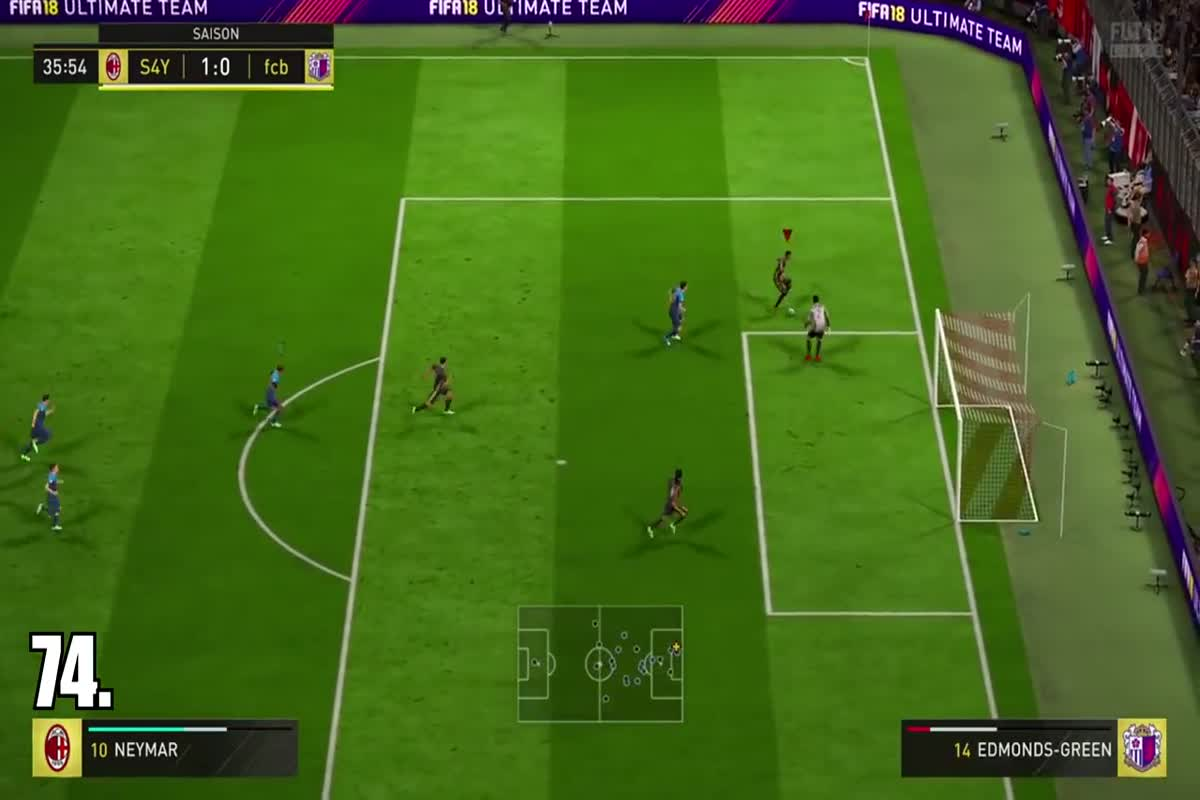ball: (783, 299, 804, 323)
